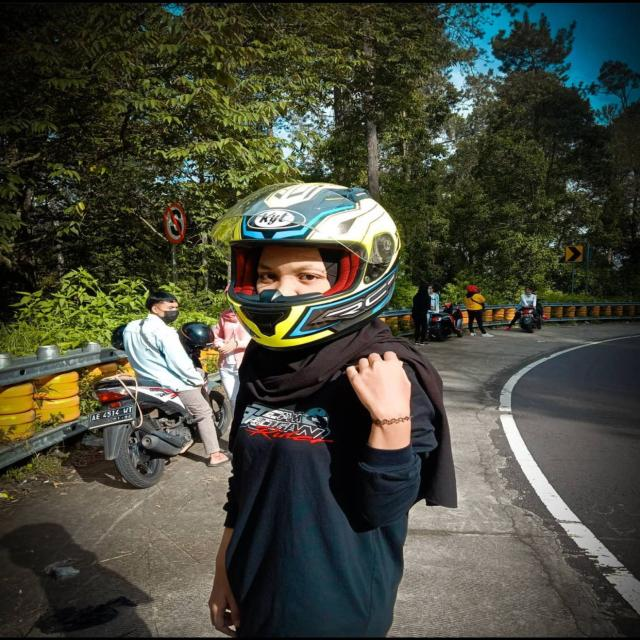Helm: (210, 176, 407, 351)
